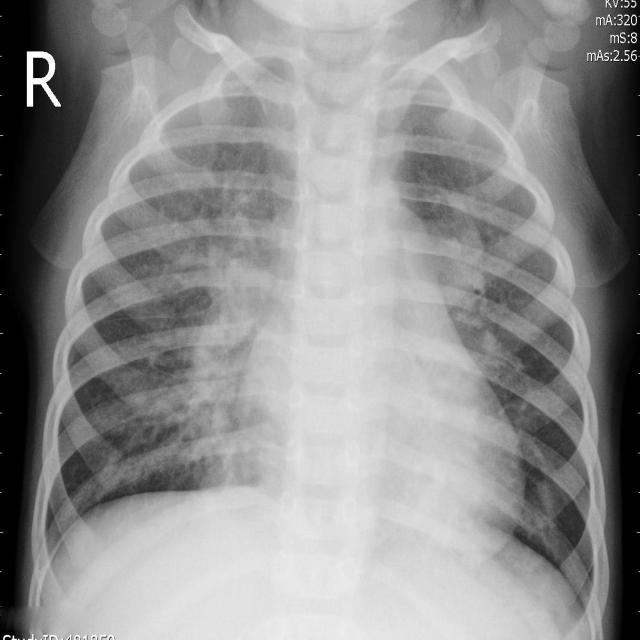high-pneumonia: (175, 183, 275, 485), (198, 30, 303, 151)
low-pneumonia: (433, 204, 534, 412)
